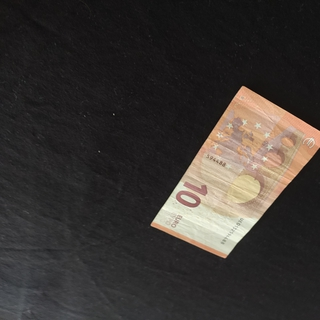10EUROBack: (150, 85, 320, 258)
